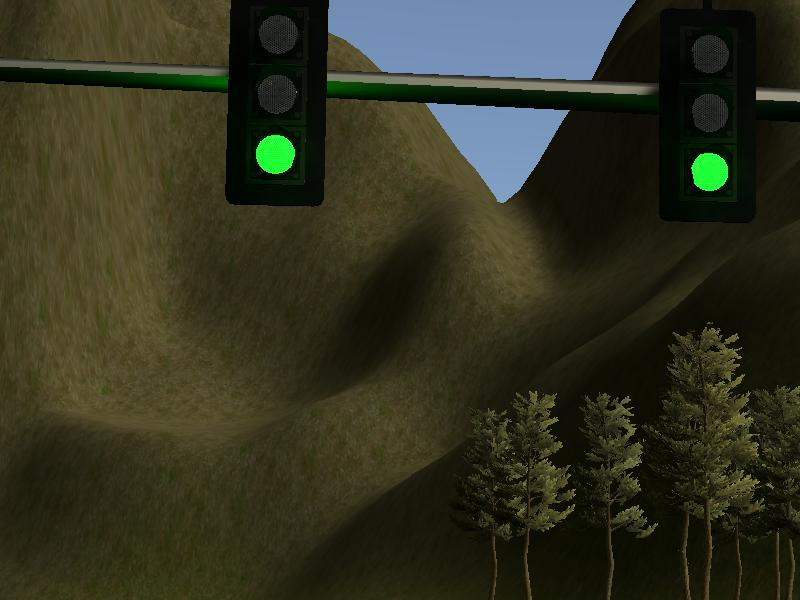green: (658, 5, 757, 223), (227, 1, 323, 205)
